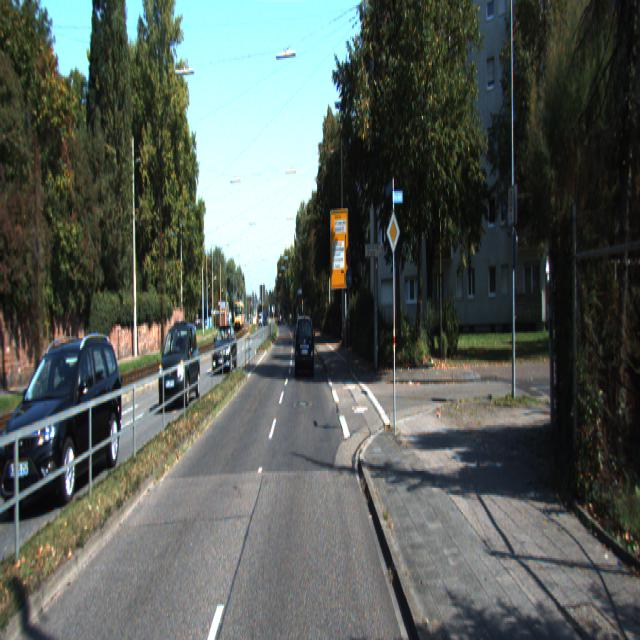Car: (1, 329, 125, 519), (158, 318, 202, 411), (212, 322, 238, 373), (295, 313, 315, 378)
